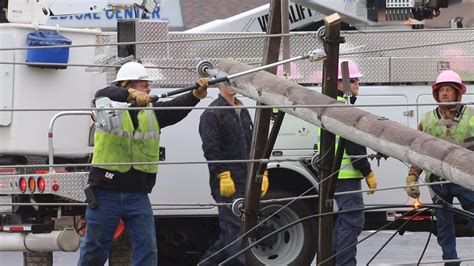pole: (202, 51, 474, 210)
